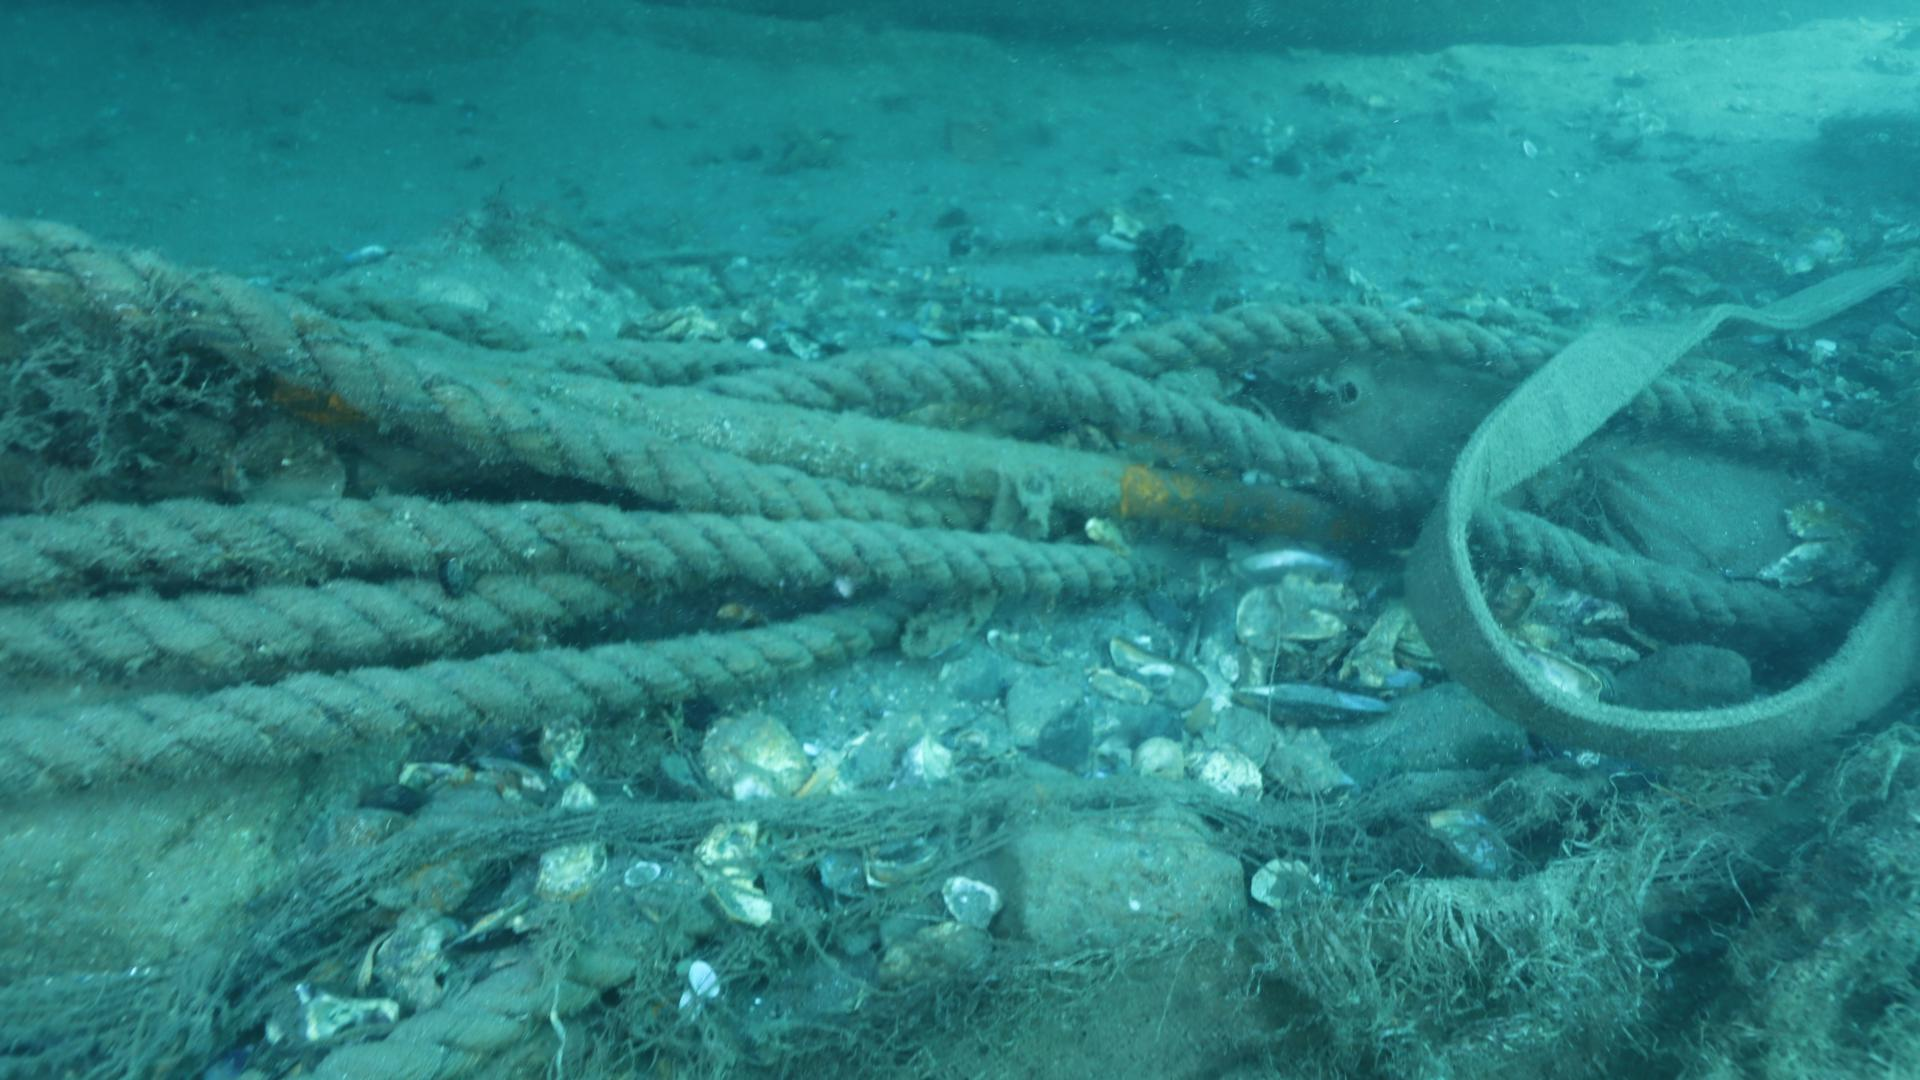bundle of ropes: (0, 215, 1920, 789)
